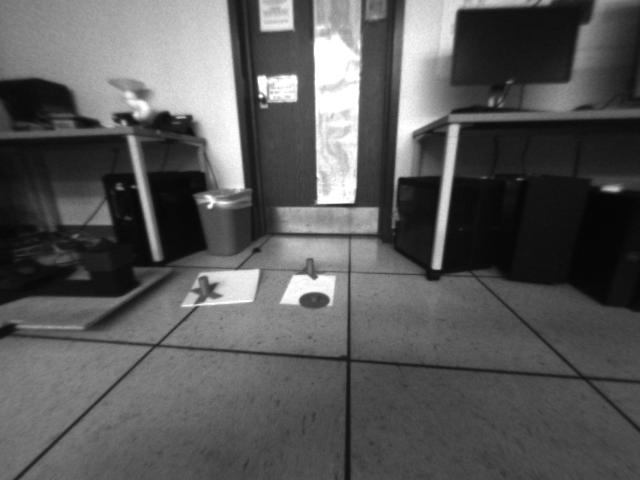X: (192, 276, 223, 303), (294, 255, 322, 282)
